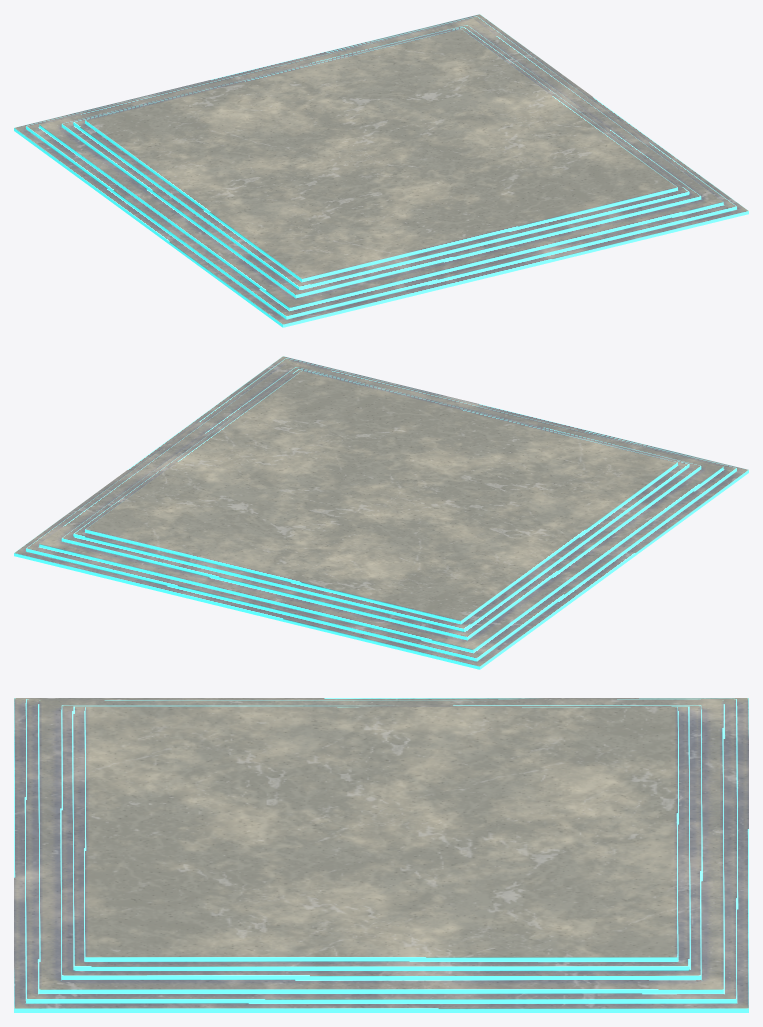
Rendered from platform.glb.
3 renders of one model, top to bottom at view 1: azimuth 30°, elevation 25°; view 2: azimuth 150°, elevation 25°; view 3: azimuth 270°, elevation 25°, orthographic. The views are drawn at different scales.
Visible parts, largest first — view 1: platform; view 2: platform; view 3: platform.
Part boxes in pixels (x1=…): platform: x1=14, y1=14, x2=748, y2=327; platform: x1=14, y1=356, x2=748, y2=669; platform: x1=14, y1=698, x2=748, y2=1012.
Size of what is drawn, in the model's own units: 31.4 by 1.2 by 31.4.
1 material, 1 textured.
